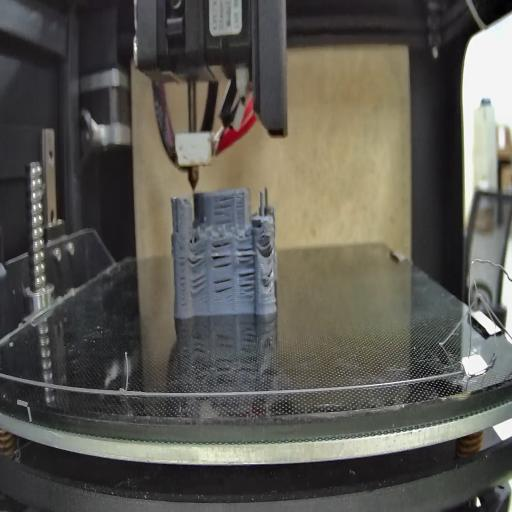cracks: (211, 195, 235, 228), (211, 240, 234, 272), (213, 278, 236, 303), (179, 248, 188, 306), (238, 271, 256, 300), (235, 241, 255, 267), (189, 274, 206, 302), (188, 247, 206, 270), (262, 236, 275, 256), (266, 268, 277, 280), (174, 219, 181, 236)
